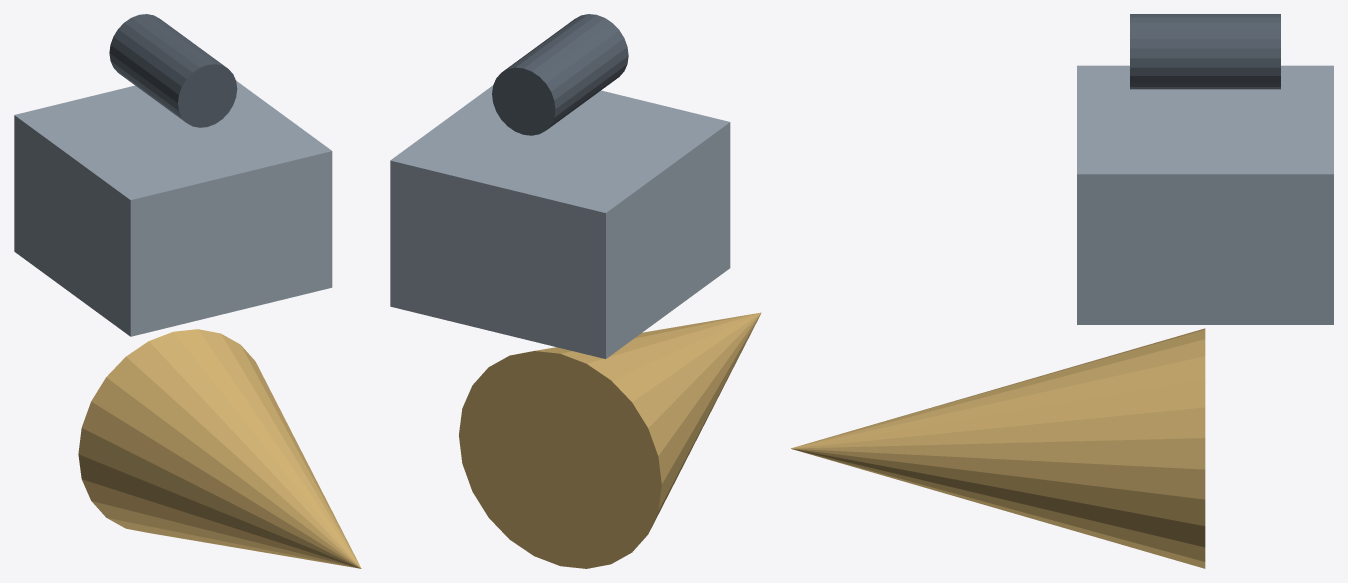
Rendered from silicon_extractor.glb.
3 renders of one model, left to right at view 1: azimuth 30°, elevation 25°; view 2: azimuth 150°, elevation 25°; view 3: azimuth 270°, elevation 25°, orthographic. The views are drawn at different scales.
Visible parts, largest first — view 1: geometry_0, geometry_1, geometry_2; view 2: geometry_0, geometry_1, geometry_2; view 3: geometry_0, geometry_1, geometry_2.
Part boxes in pixels (x1,y1,x2,y2): geometry_0: [14, 81, 332, 336]; geometry_1: [78, 329, 361, 568]; geometry_2: [109, 14, 237, 127]; geometry_0: [390, 85, 730, 358]; geometry_1: [459, 312, 761, 568]; geometry_2: [492, 14, 628, 135]; geometry_0: [1077, 65, 1333, 324]; geometry_1: [791, 328, 1205, 568]; geometry_2: [1130, 14, 1280, 89].
Bounding box in the file's own units: 0.34 × 0.79 × 0.72.
